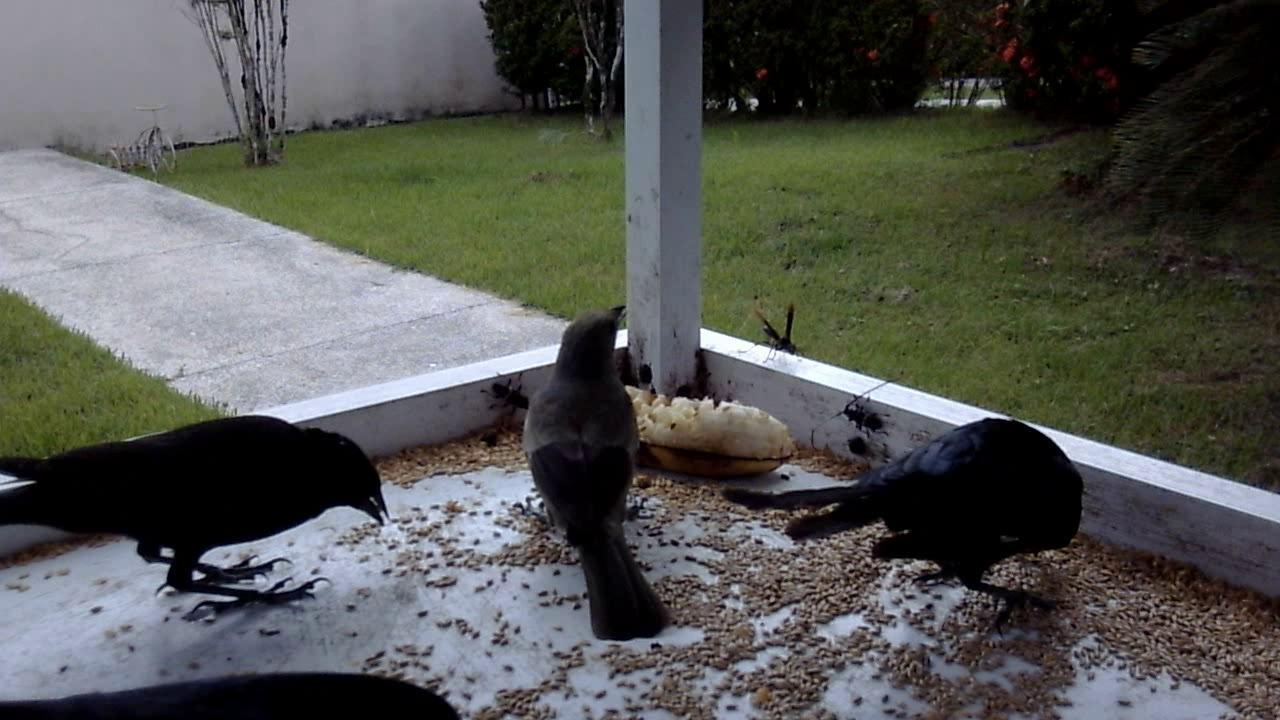chupim: (1, 398, 401, 638), (772, 400, 1093, 644)
sanhaco_do_coqueiro: (498, 297, 684, 644)
